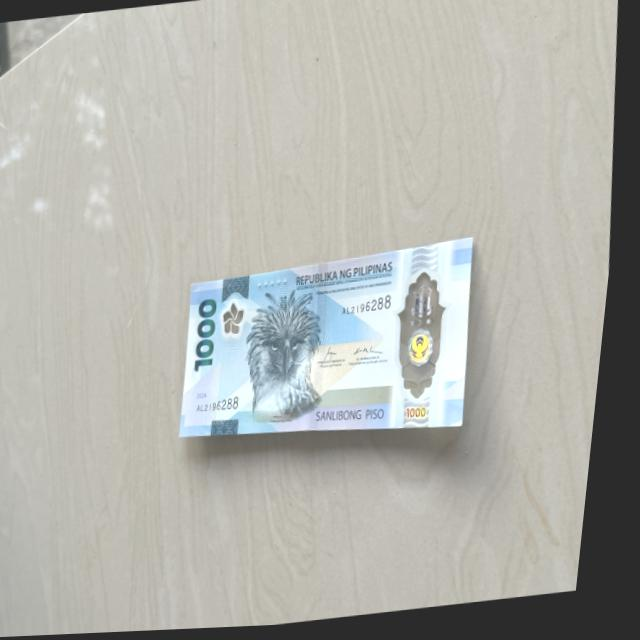clear_window: (392, 263, 463, 408)
eagle: (246, 288, 335, 424)
sampaguita: (223, 297, 256, 342)
